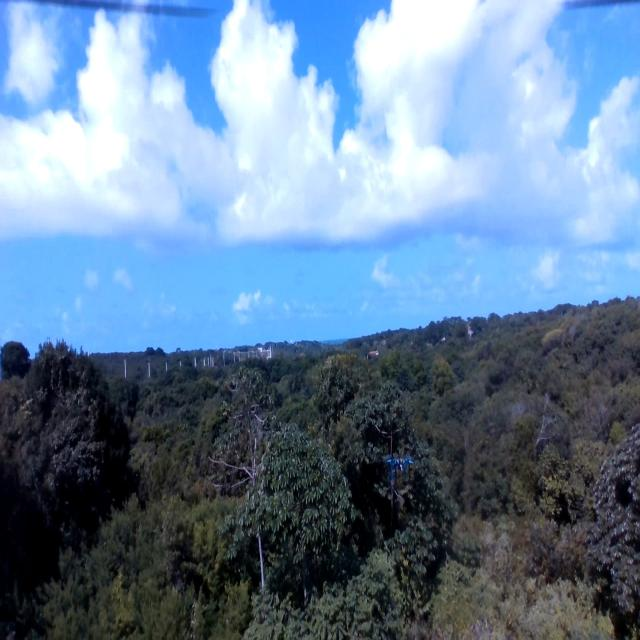-uav-: (378, 443, 423, 508)
